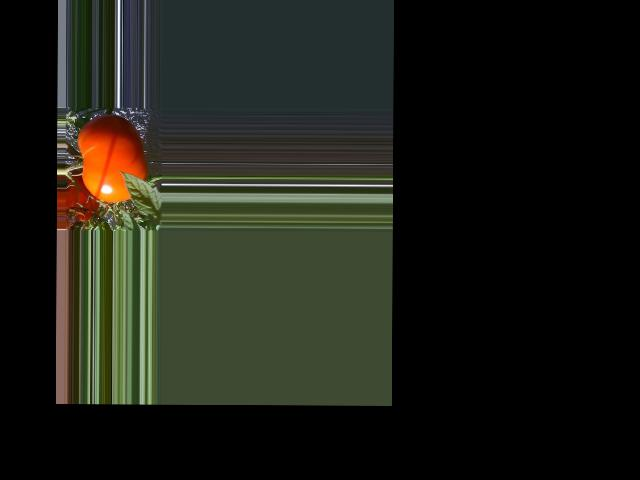tomato: (77, 114, 147, 203)
